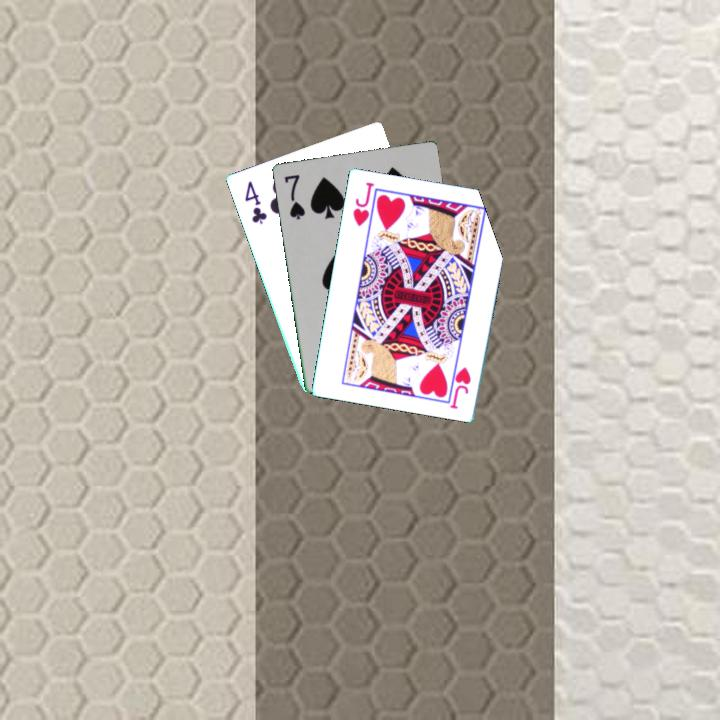4c: (241, 177, 270, 227)
7s: (280, 171, 307, 222)
Jh: (349, 178, 377, 229), (447, 363, 474, 411)
